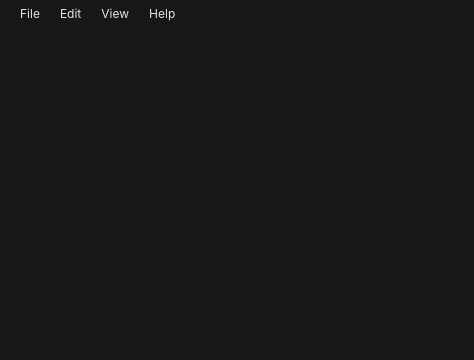
Scenario: MenuBar › shows recent drafts in submenu
// Open File menu
Click the button "File" at coordinates (30, 14), box [12, 4, 48, 24]
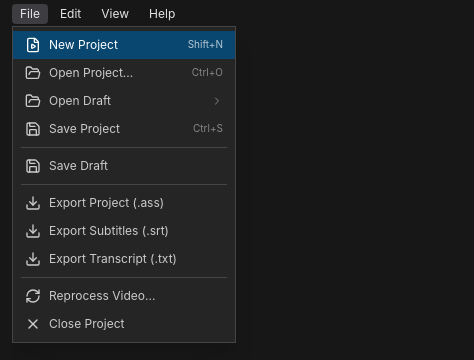
// Hover over Open Draft to trigger submenu
Hover over the menu item "Open Draft" at coordinates (124, 101), box [13, 87, 235, 115]
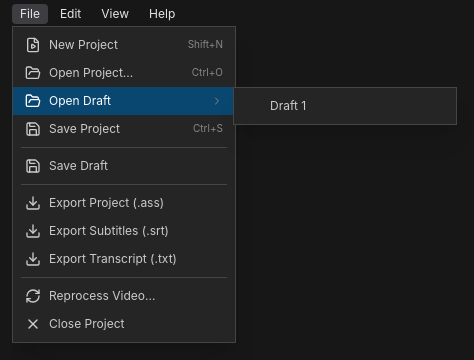
Now the text "Draft 1" is shown, box [270, 98, 306, 113]
